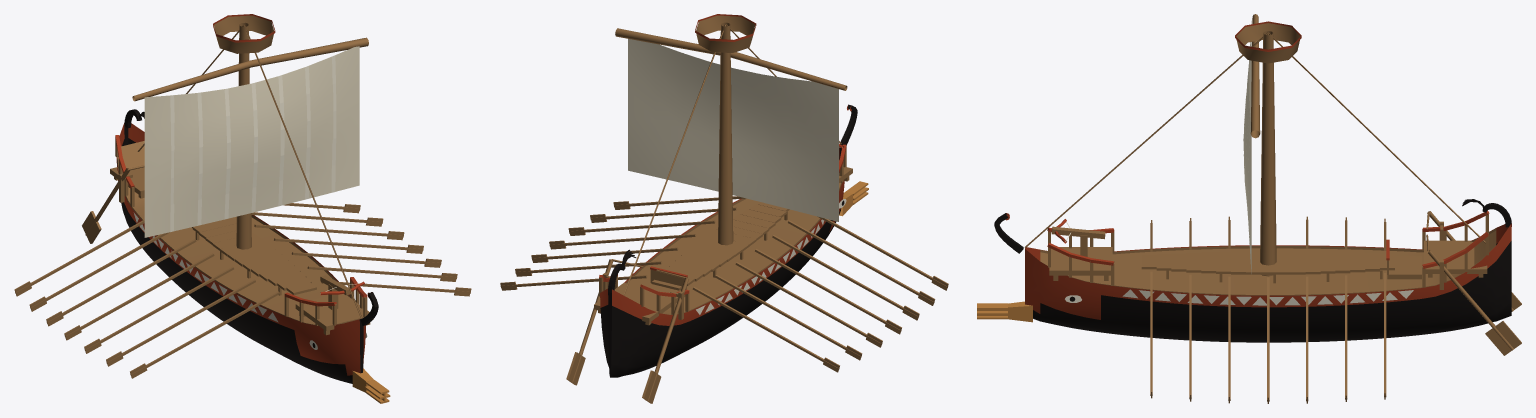
Rendered from ship_ram_blockout_LOD0.obj.
3 views of the same model, side by side, from view 1: azimuth 30°, elevation 25°; view 2: azimuth 150°, elevation 25°; view 3: azimuth 270°, elevation 25° (orthographic). The views are drawn at different scales.
Visible parts, largest first — view 1: ship_ram_blockout_LOD0; view 2: ship_ram_blockout_LOD0; view 3: ship_ram_blockout_LOD0.
Part boxes in pixels (box(x1,y1,x2,y2)): ship_ram_blockout_LOD0: box(14, 14, 471, 403); ship_ram_blockout_LOD0: box(500, 14, 948, 403); ship_ram_blockout_LOD0: box(977, 14, 1521, 403).
Bounding box in the file's own units: 16.04 × 12.53 × 20.39.
